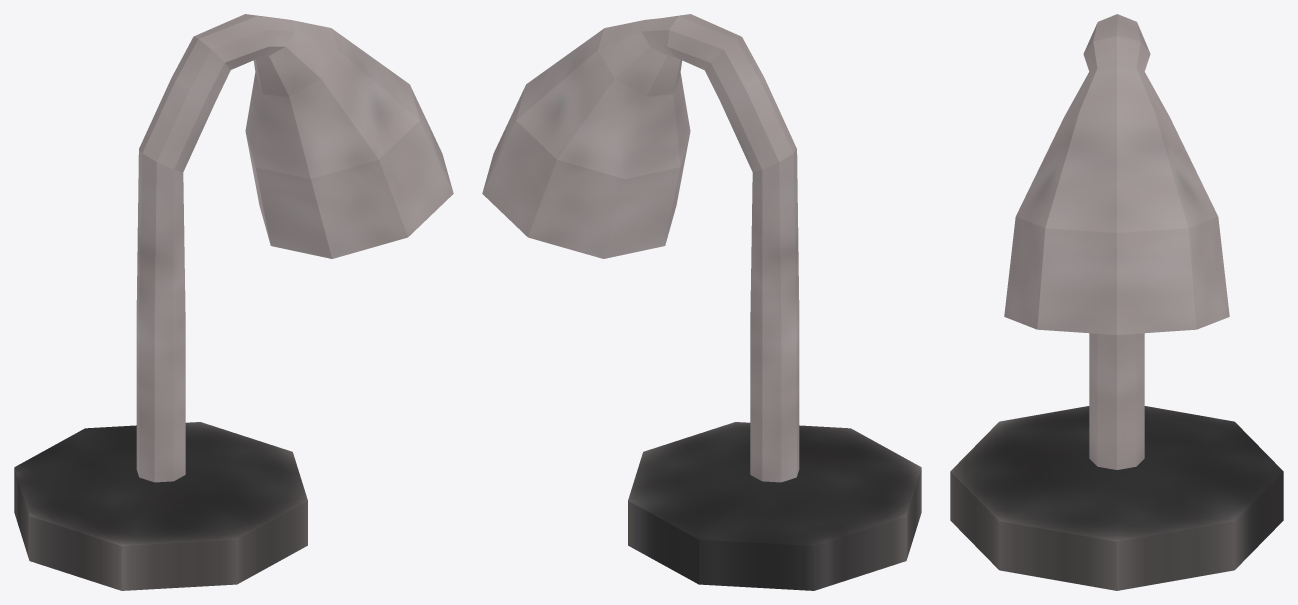
The model's file is lampara.glb.
The picture shows the model from 3 angles, left to right: view 1: azimuth 30°, elevation 25°; view 2: azimuth 150°, elevation 25°; view 3: azimuth 270°, elevation 25°; orthographic projection. The views are drawn at different scales.
Parts seen in each view (by area): view 1: Lampara; view 2: Lampara; view 3: Lampara.
Boxes of the visible parts, x1,y1,x2,y2 form: Lampara: (14,14,453,590); Lampara: (482,14,921,590); Lampara: (950,14,1283,590).
Size of the model in its own units: 3.14 by 3.55 by 2.
1 material, 1 textured.
